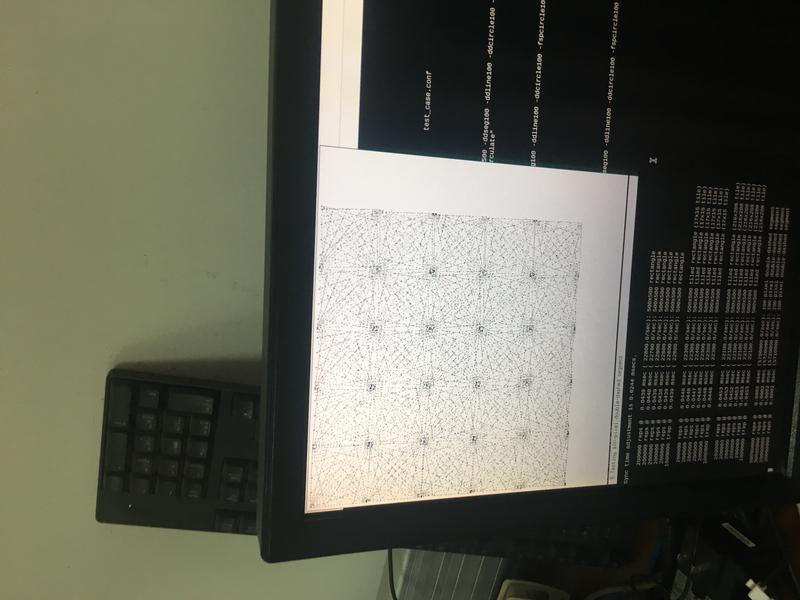xrandr_pass: (293, 132, 643, 513)
